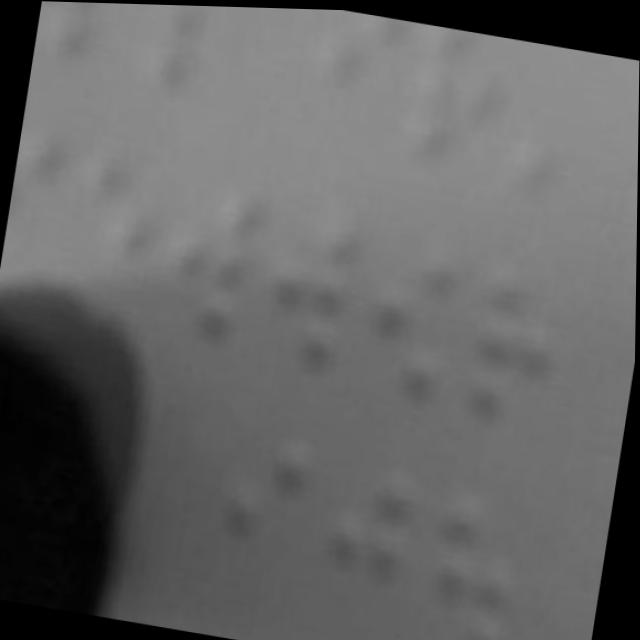braiile: (191, 403, 324, 620), (141, 143, 271, 348), (346, 207, 476, 405), (248, 168, 373, 373), (299, 438, 423, 640), (455, 226, 577, 430), (49, 128, 166, 326), (407, 459, 529, 640), (391, 20, 508, 172), (0, 108, 72, 312), (104, 2, 216, 107)
